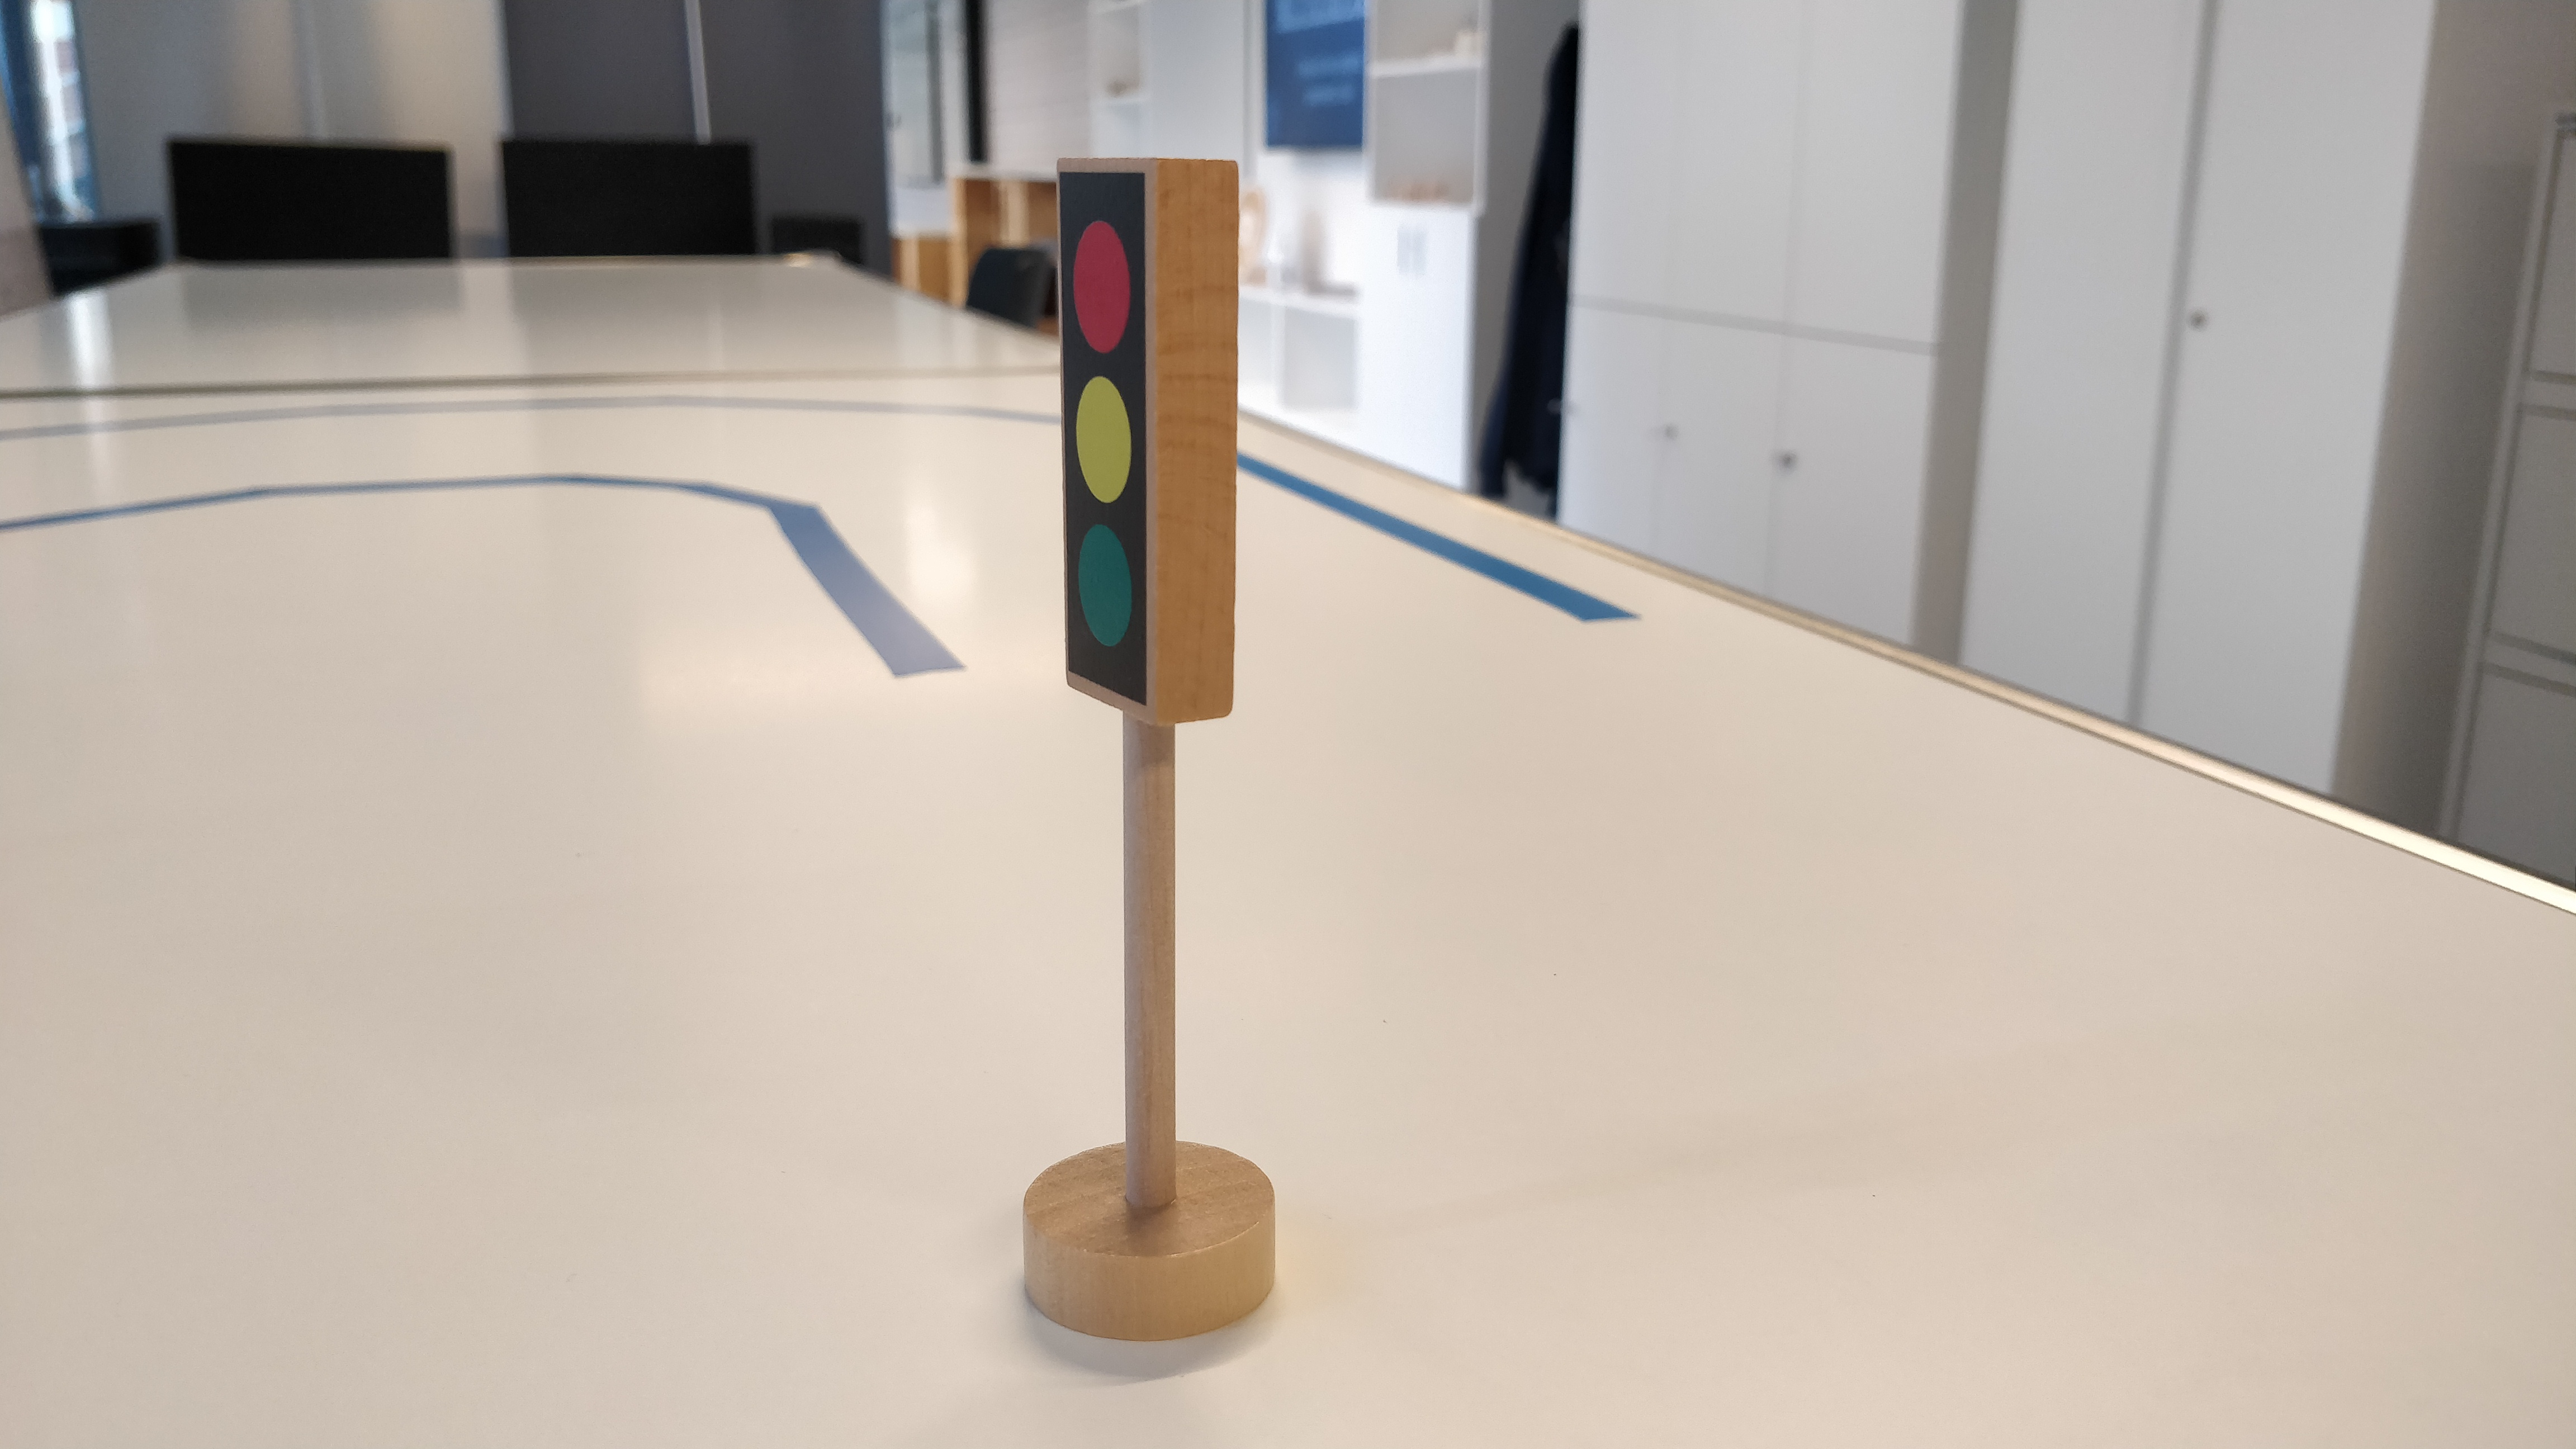Traffic Light: (1054, 154, 1245, 726)
